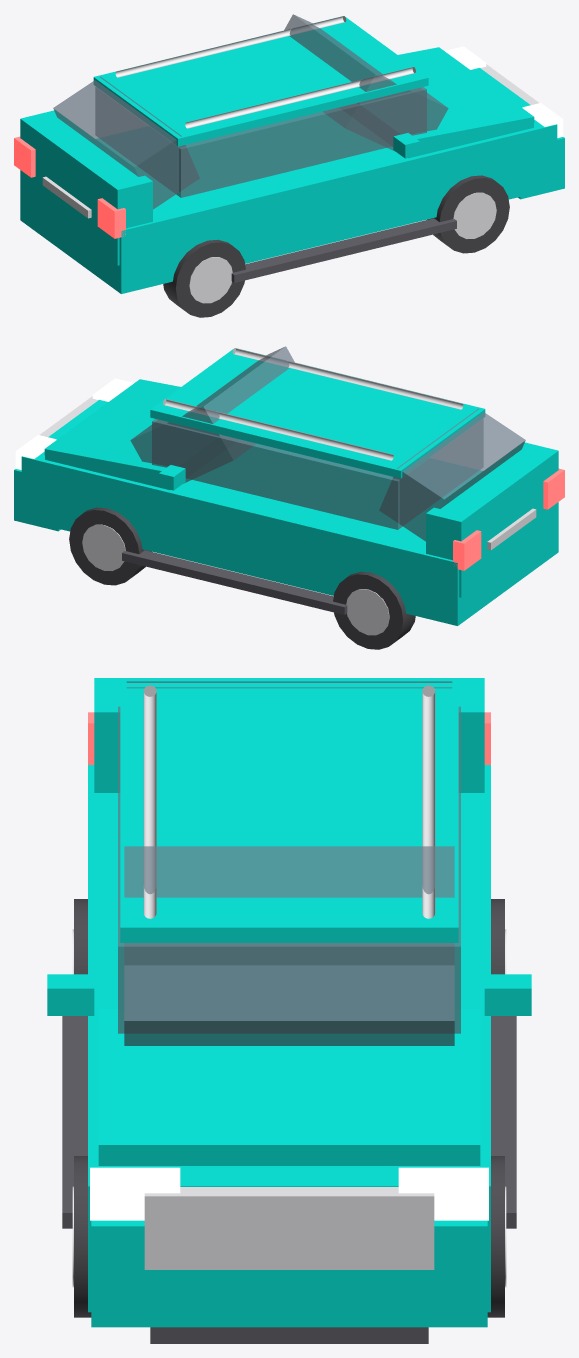
File: suv_mpv.glb
3 views of the same model, one above another, from view 1: azimuth 30°, elevation 25°; view 2: azimuth 150°, elevation 25°; view 3: azimuth 270°, elevation 25° (orthographic). The views are drawn at different scales.
Parts seen in each view (by area): view 1: Body, Glass, Chrome, Trim, Wheel_RL, Wheel_FL, Rim_RL, Taillight, Rim_FL, Headlight; view 2: Body, Glass, Chrome, Trim, Wheel_RR, Wheel_FR, Rim_RR, Taillight, Rim_FR, Headlight; view 3: Body, Glass, Chrome, Trim, Headlight, Wheel_FL, Wheel_FR, Wheel_RL, Wheel_RR.
Part boxes in pixels (left/top/right/bottom): Body: left=20, top=16, right=564, bottom=293; Glass: left=53, top=14, right=448, bottom=209; Chrome: left=42, top=16, right=538, bottom=218; Trim: left=231, top=218, right=456, bottom=282; Wheel_RL: left=163, top=239, right=245, bottom=317; Wheel_FL: left=427, top=175, right=509, bottom=253; Rim_RL: left=189, top=257, right=232, bottom=303; Taillight: left=14, top=136, right=125, bottom=238; Rim_FL: left=453, top=192, right=496, bottom=238; Headlight: left=445, top=46, right=563, bottom=137; Body: left=14, top=348, right=558, bottom=625; Glass: left=130, top=346, right=525, bottom=541; Chrome: left=40, top=348, right=536, bottom=550; Trim: left=122, top=550, right=347, bottom=614; Wheel_RR: left=333, top=571, right=415, bottom=649; Wheel_FR: left=69, top=507, right=151, bottom=585; Rim_RR: left=346, top=589, right=389, bottom=635; Taillight: left=453, top=468, right=564, bottom=570; Rim_FR: left=82, top=524, right=125, bottom=570; Headlight: left=15, top=378, right=133, bottom=469; Body: left=47, top=678, right=531, bottom=1327; Glass: left=118, top=681, right=460, bottom=1045; Chrome: left=143, top=685, right=435, bottom=1269; Trim: left=62, top=1016, right=516, bottom=1343; Headlight: left=90, top=1167, right=488, bottom=1220; Wheel_FL: left=74, top=1156, right=91, bottom=1317; Wheel_FR: left=487, top=1156, right=504, bottom=1317; Wheel_RL: left=74, top=899, right=87, bottom=974; Wheel_RR: left=491, top=899, right=504, bottom=974.
Bounding box in the file's own units: 4.87 × 1.96 × 2.26.
